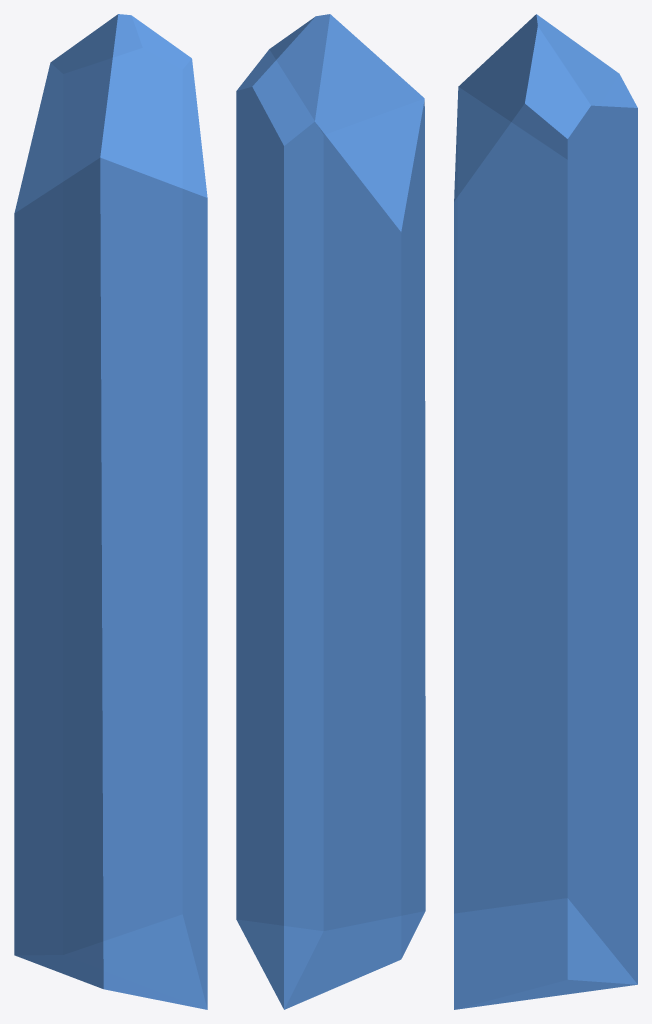
The model's file is Crystal_s_04.fbx.
3 renders of one model, left to right at view 1: azimuth 30°, elevation 25°; view 2: azimuth 150°, elevation 25°; view 3: azimuth 270°, elevation 25°, orthographic.
Parts seen in each view (by area): view 1: Crystal_s_04; view 2: Crystal_s_04; view 3: Crystal_s_04.
Part boxes in pixels (bbox=[...]): Crystal_s_04: bbox=[14, 14, 207, 1009]; Crystal_s_04: bbox=[236, 14, 425, 1009]; Crystal_s_04: bbox=[454, 14, 637, 1009].
Bounding box in the file's own units: 0.2122 × 1.18 × 0.2018.
